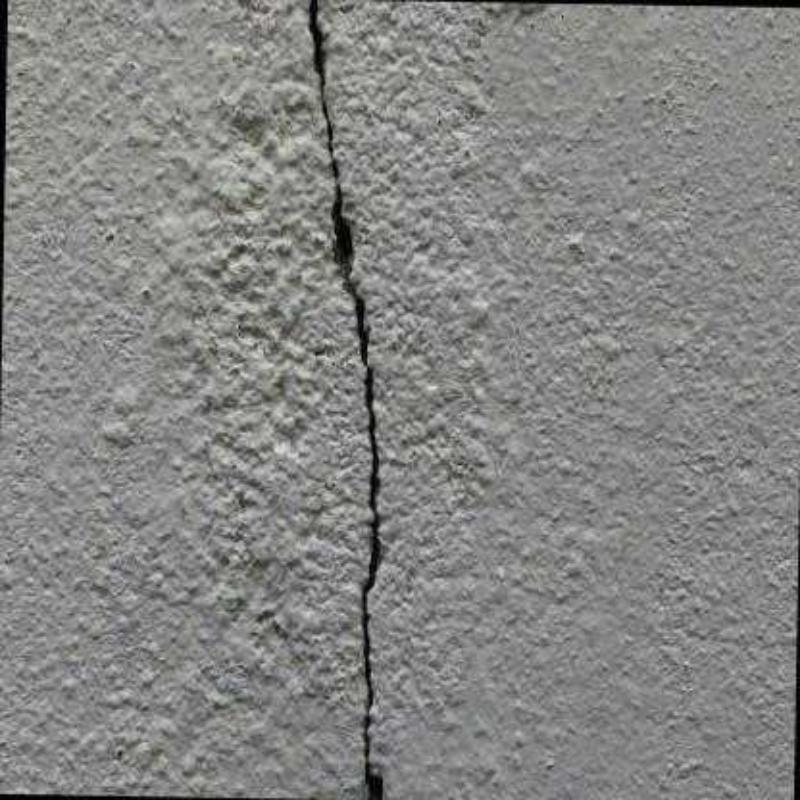crack: (307, 0, 383, 800)
